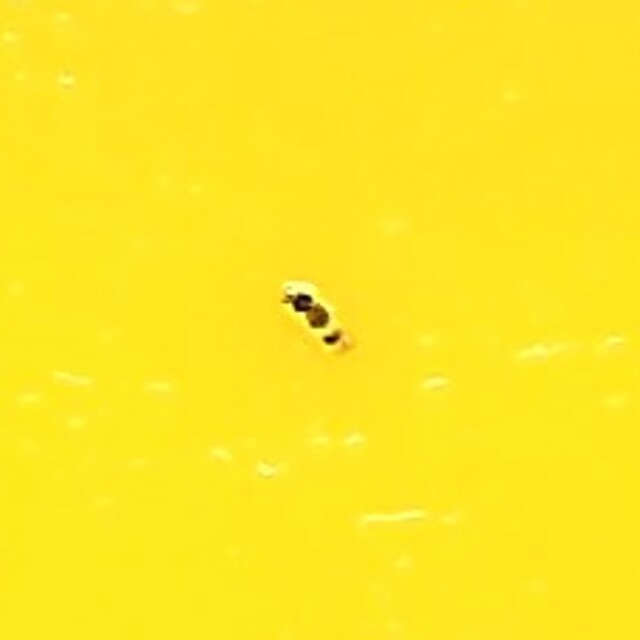Brachycera: (281, 278, 359, 362)
